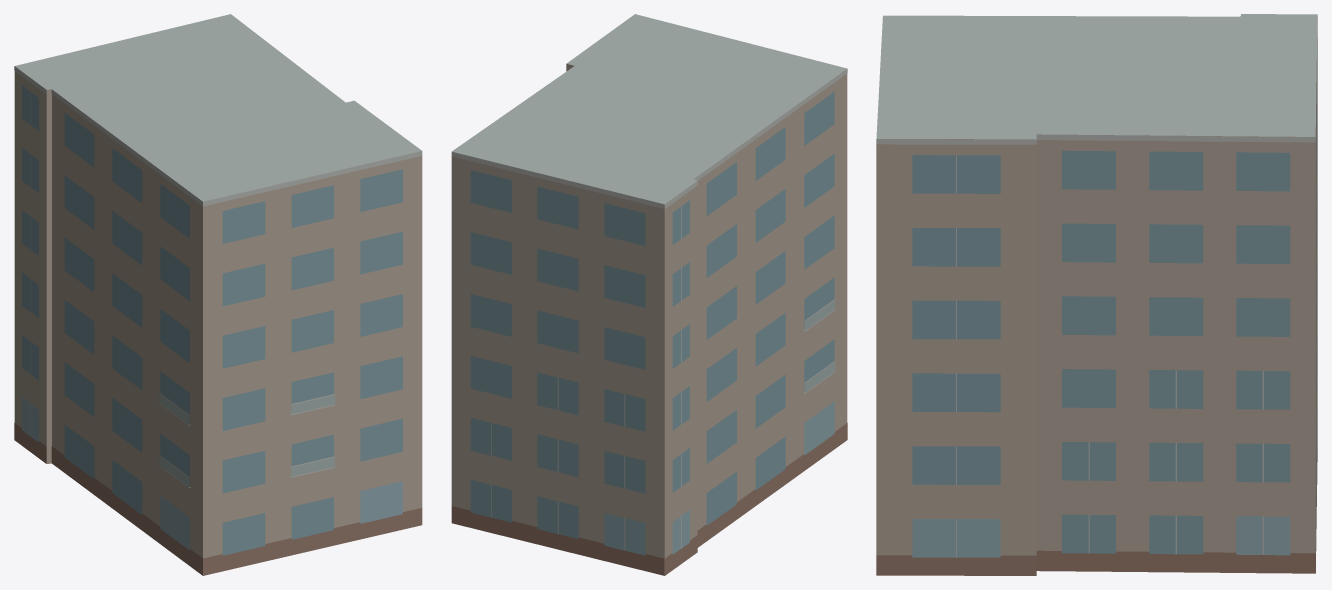
File: survey-upis-32747313.glb
3 views of the same model, side by side, from view 1: azimuth 30°, elevation 25°; view 2: azimuth 150°, elevation 25°; view 3: azimuth 270°, elevation 25° (orthographic). The views are drawn at different scales.
Visible parts, largest first — view 1: survey-upis-32747313.tmp; view 2: survey-upis-32747313.tmp; view 3: survey-upis-32747313.tmp.
Boxes of the visible parts, bbox=[...] form: survey-upis-32747313.tmp: bbox=[14, 14, 422, 575]; survey-upis-32747313.tmp: bbox=[451, 14, 847, 575]; survey-upis-32747313.tmp: bbox=[876, 14, 1317, 575].
Size of the model in its own units: 11.82 by 19.2 by 17.59.
